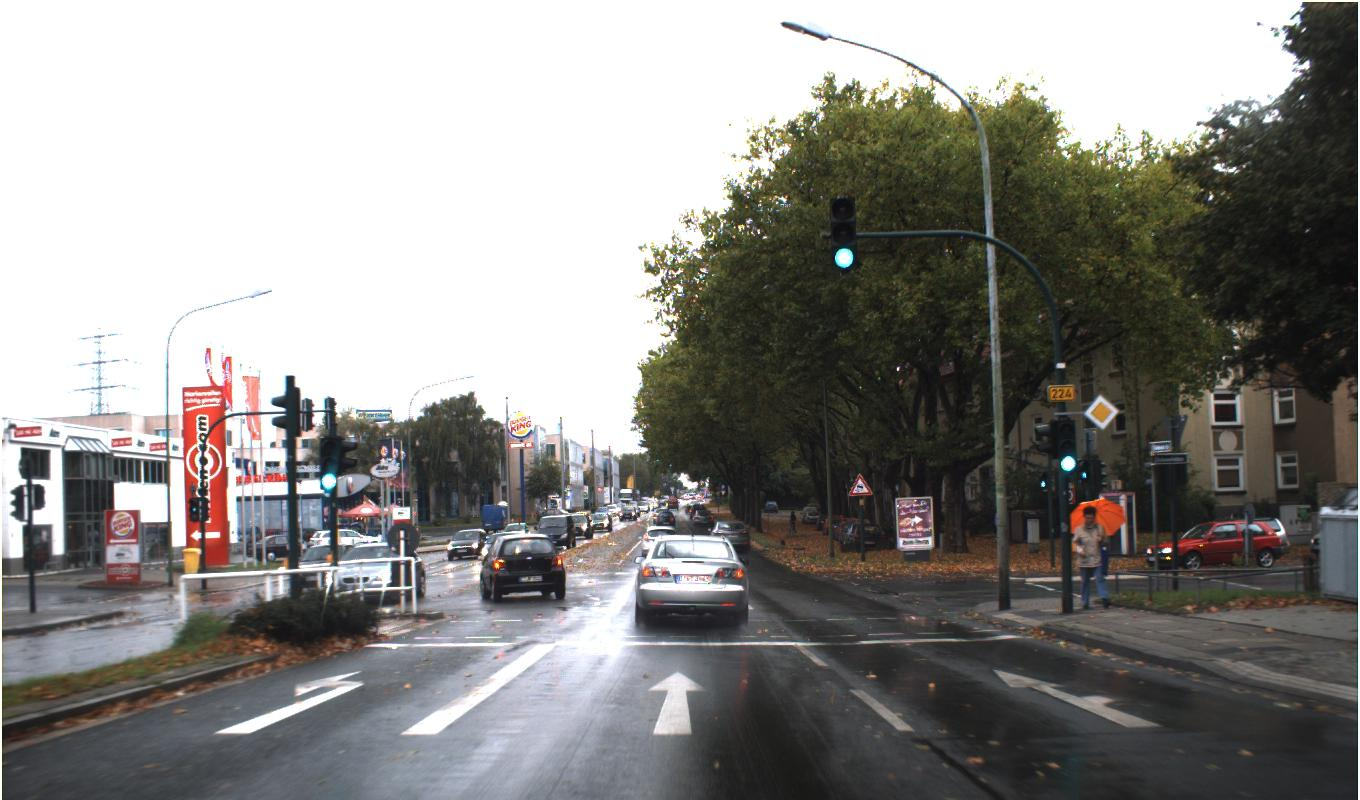danger: (847, 472, 873, 496)
sign: (1082, 393, 1120, 431)
